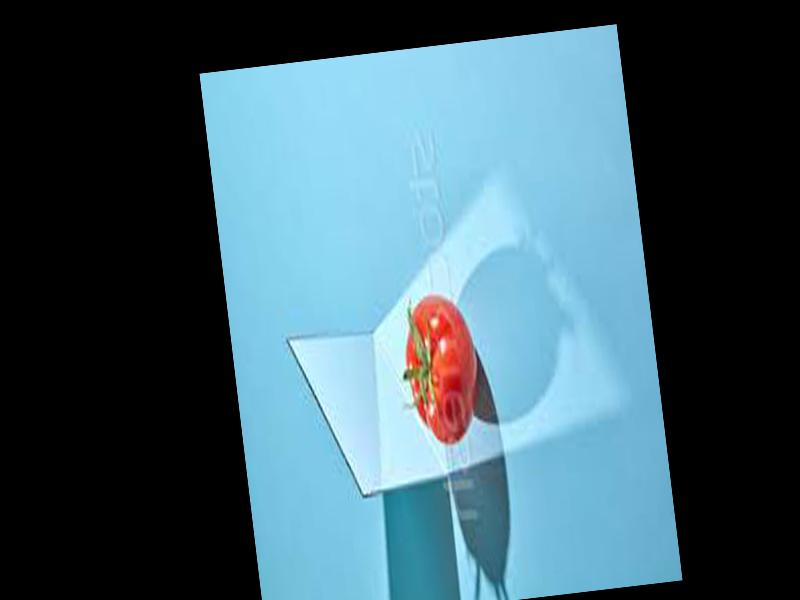Tomato: (398, 291, 486, 448)
